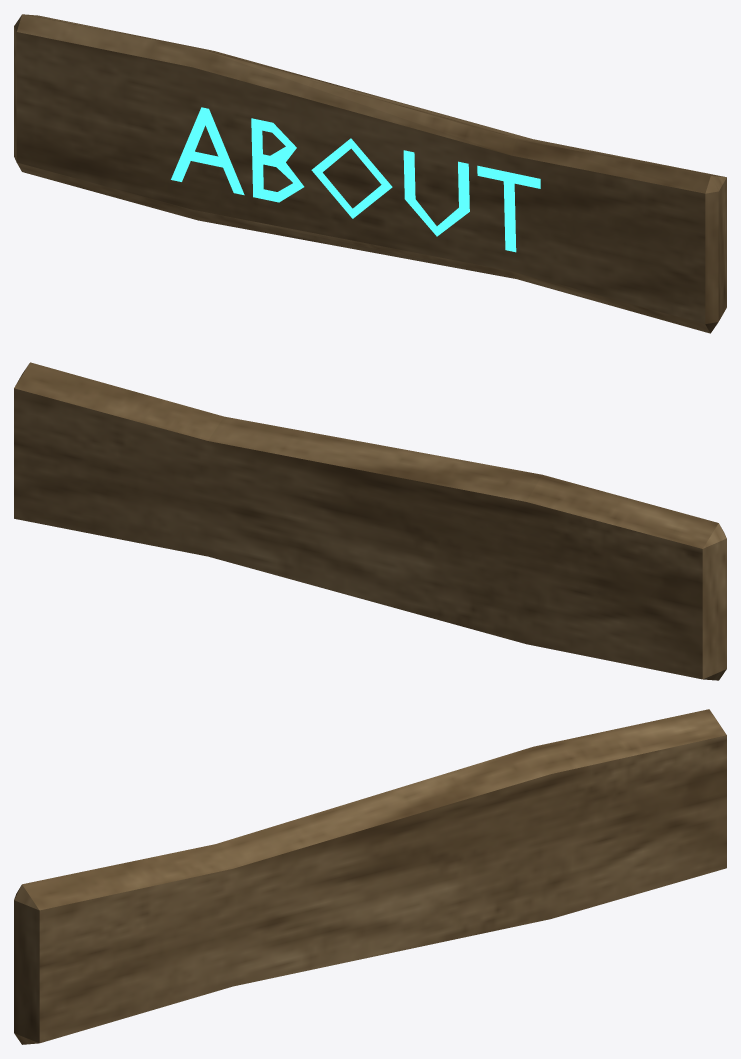
File: s0_Billboards_DAO_01.glb
The picture shows the model from 3 angles, top to bottom: view 1: azimuth 30°, elevation 25°; view 2: azimuth 210°, elevation 25°; view 3: azimuth 270°, elevation 25°; orthographic projection.
Parts seen in each view (by area): view 1: node_Billboards_DAO; view 2: node_Billboards_DAO; view 3: node_Billboards_DAO.
Boxes of the visible parts, bbox=[...] form: node_Billboards_DAO: bbox=[14, 14, 726, 333]; node_Billboards_DAO: bbox=[14, 362, 726, 680]; node_Billboards_DAO: bbox=[14, 709, 726, 1044].
Size of the model in its own units: 3.31 by 1.41 by 5.21.
Materials: 2 (1 with a texture image).
